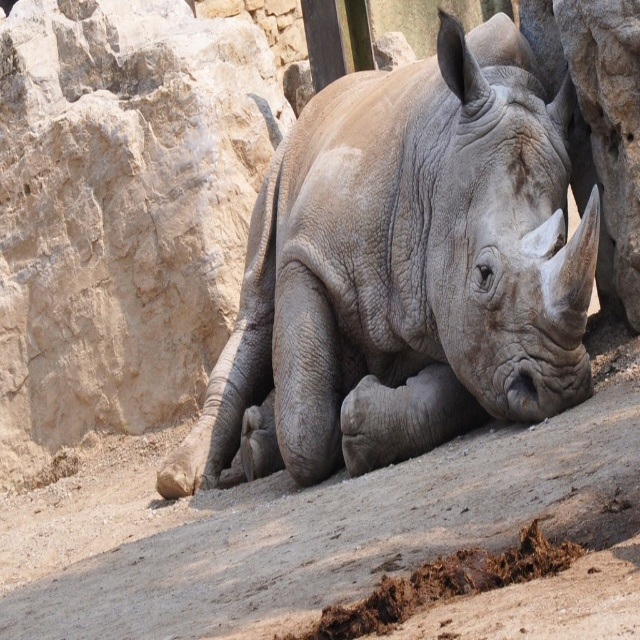Rhinoceros: (156, 4, 598, 504)
